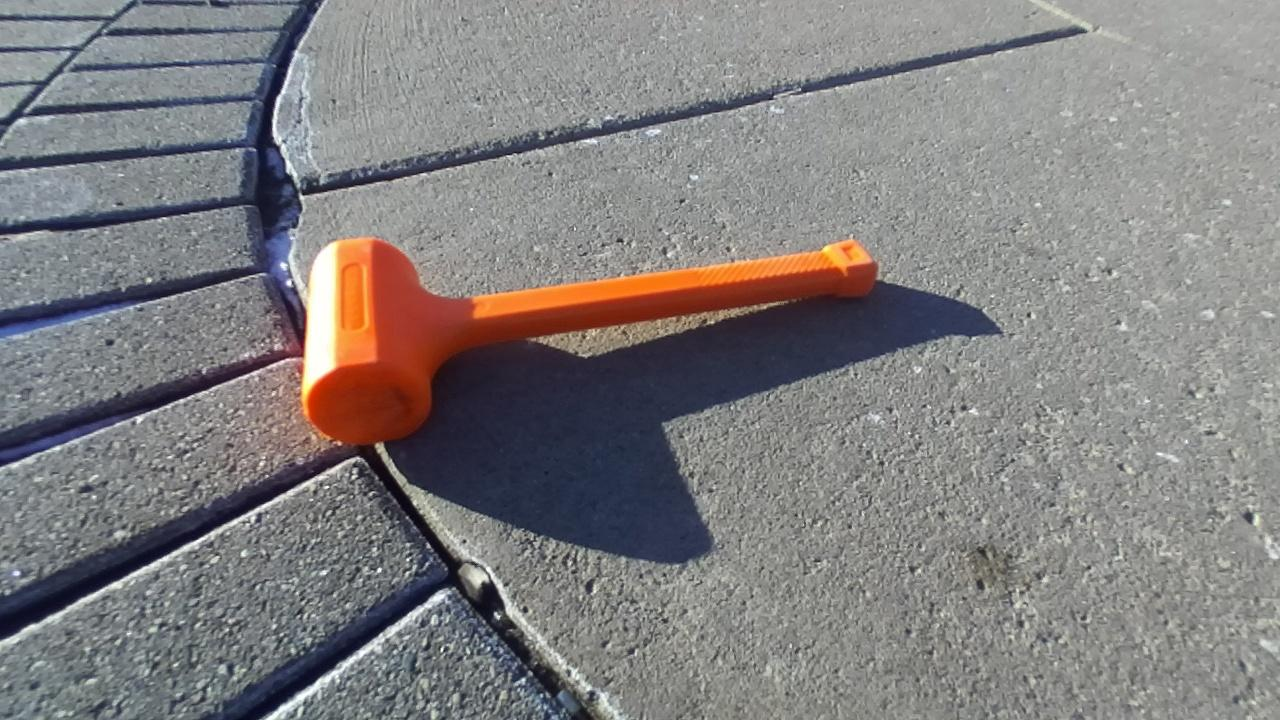mallet: (301, 238, 877, 443)
